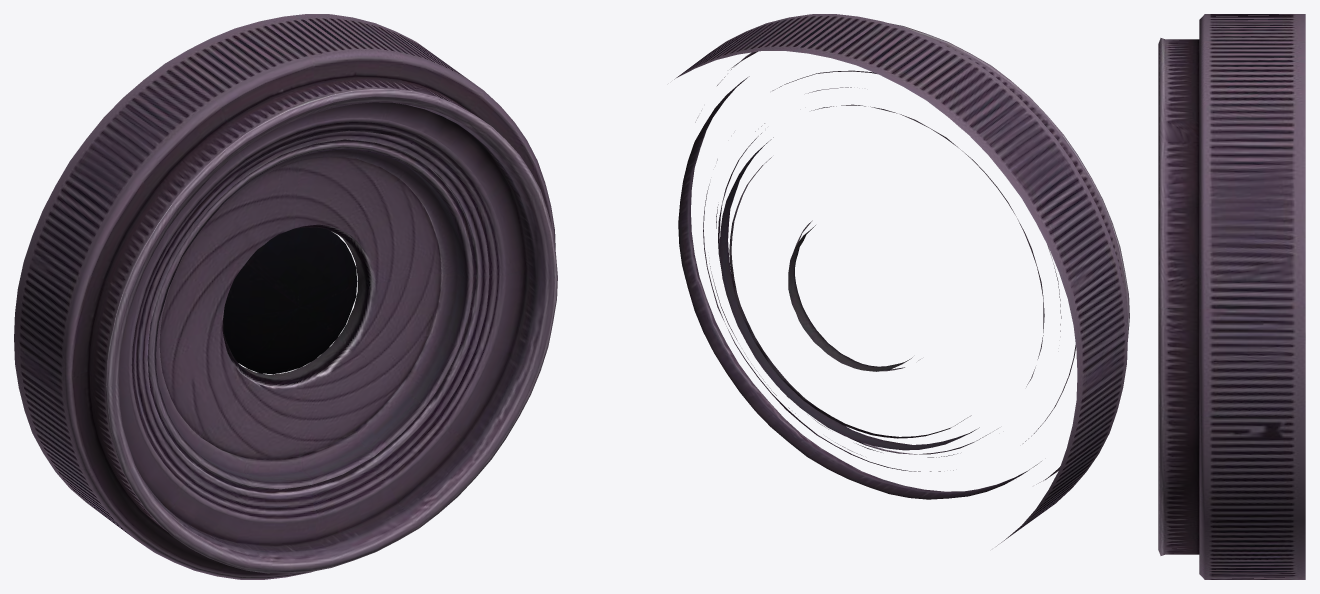
Rendered from cogniflow-iris.glb.
The picture shows the model from 3 angles, left to right: view 1: azimuth 30°, elevation 25°; view 2: azimuth 150°, elevation 25°; view 3: azimuth 270°, elevation 25°; orthographic projection.
Parts seen in each view (by area): view 1: Iridescent Gunmetal Iris; view 2: Iridescent Gunmetal Iris; view 3: Iridescent Gunmetal Iris.
Part boxes in pixels (box(x1,y1,x2,y2)): Iridescent Gunmetal Iris: box(14, 14, 557, 579); Iridescent Gunmetal Iris: box(674, 14, 1129, 546); Iridescent Gunmetal Iris: box(1158, 14, 1305, 579).
Bounding box in the file's own units: 0.998 × 0.998 × 0.2598.
1 material, 1 textured.
